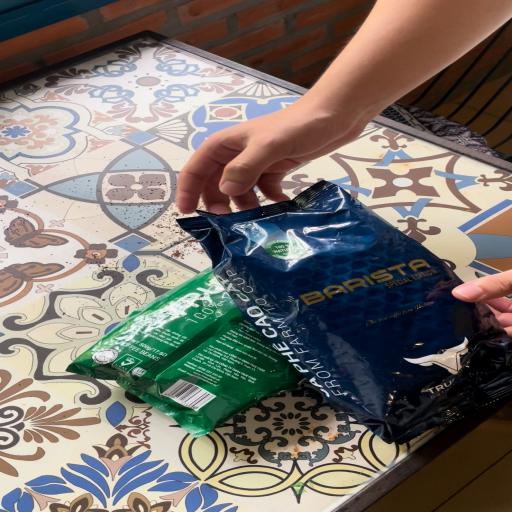cafe_hat: (177, 180, 512, 443)
cafe_xay: (68, 270, 301, 436)
